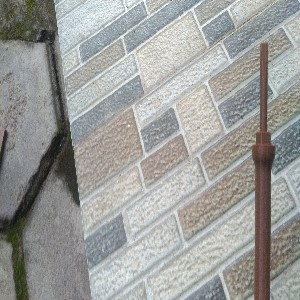obeng: (252, 41, 276, 300)
